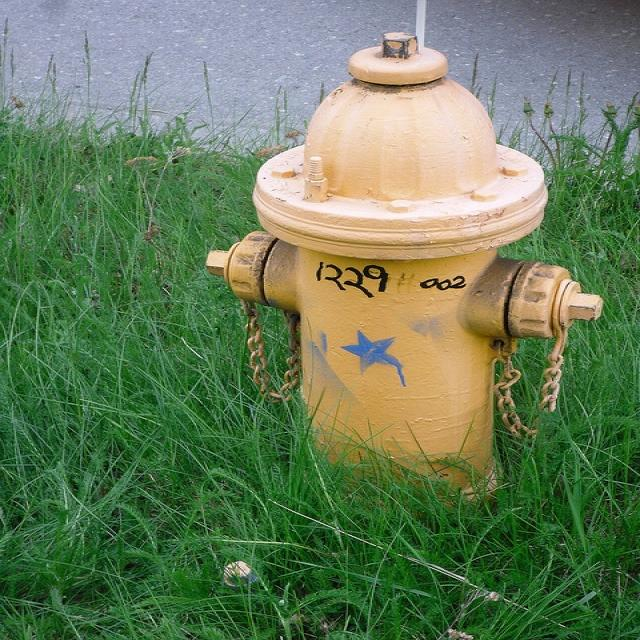fire_hydrant: (200, 31, 607, 500)
